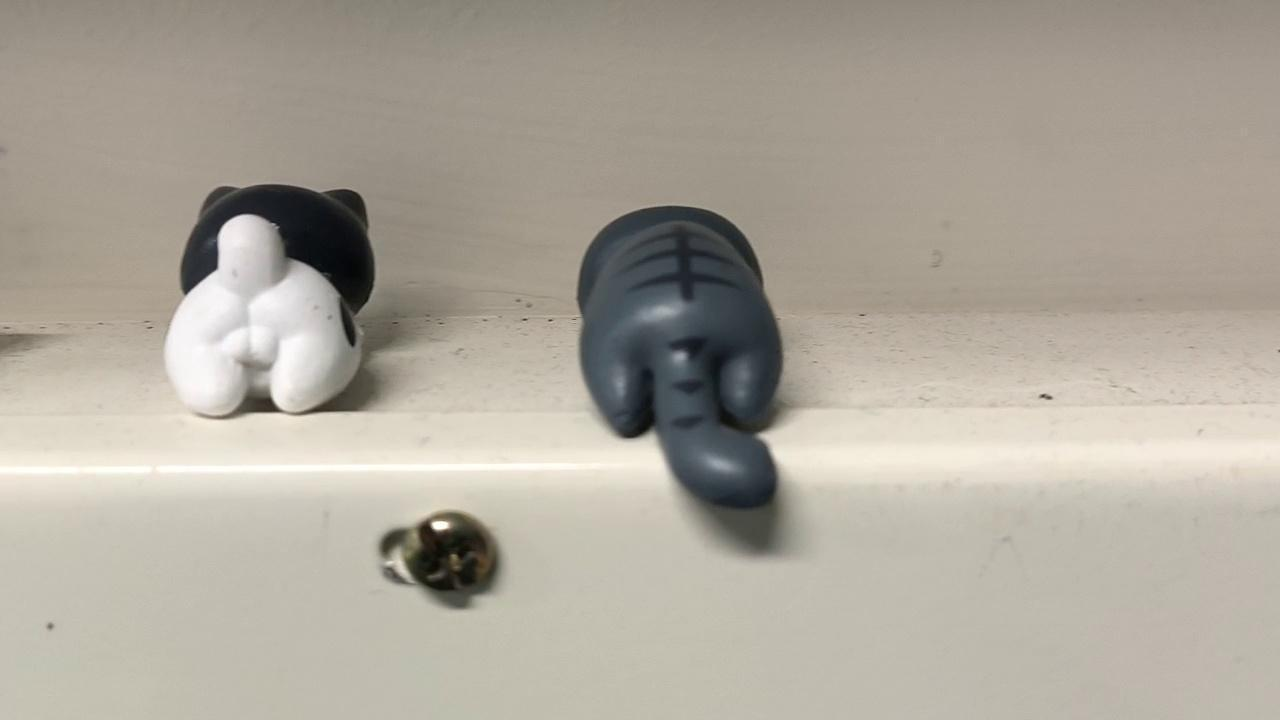pet: (561, 198, 794, 513), (155, 178, 388, 425)
